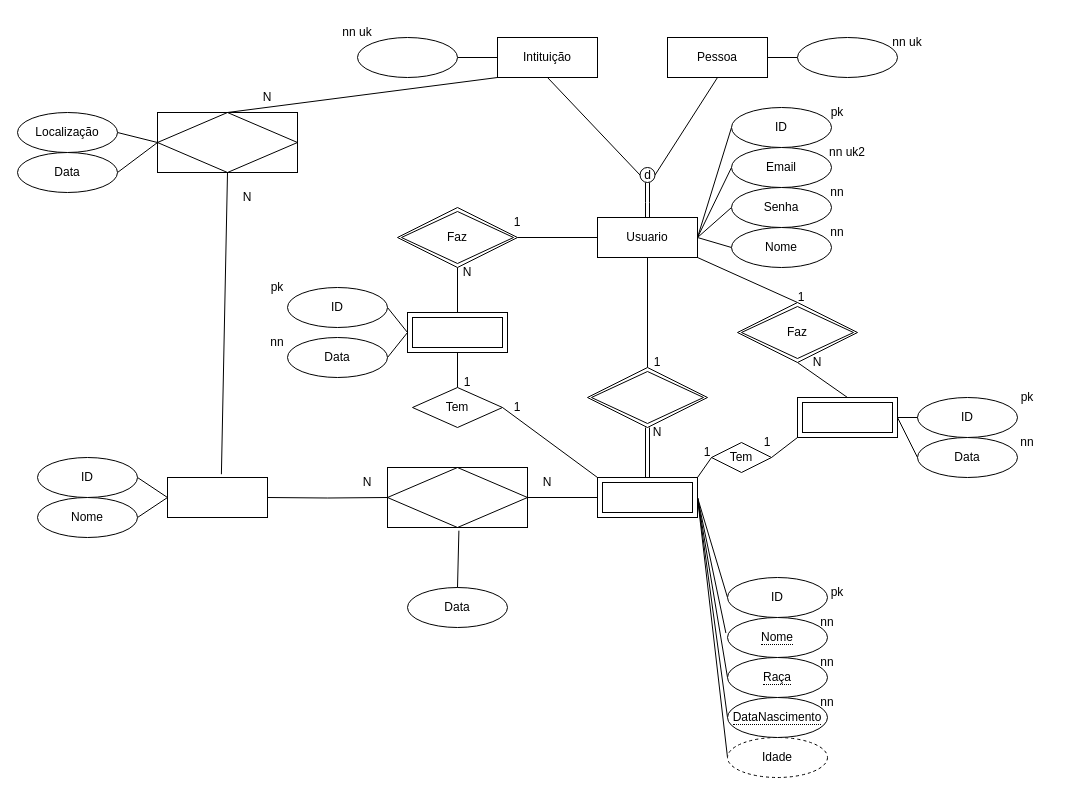
Image size: 1075x795. Some labels were removed from this diagram. Here are the shapes that lost their labels. From the top down, the centre of each, then its label:
[407,57]: CNPJ
[847,57]: CPF
[227,142]: Anuncia
[457,332]: Doação
[647,397]: Possui
[847,417]: Adoção
[217,497]: Vacina
[457,497]: Aplicada em
[647,497]: Pet
